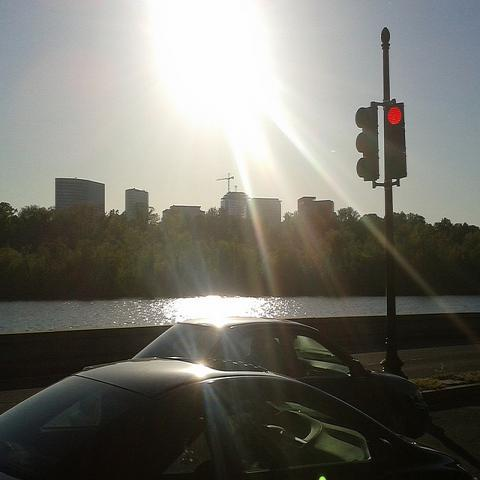car: (2, 358, 474, 476), (134, 313, 429, 423)
